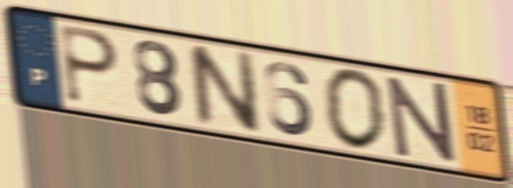6: (263, 60, 317, 139)
8: (131, 39, 184, 119)
N: (183, 41, 264, 136), (383, 74, 460, 166)
O: (320, 64, 389, 154)
P: (57, 21, 122, 108)
